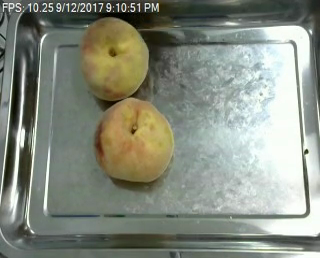Peach: (96, 97, 175, 183), (79, 17, 149, 102)
